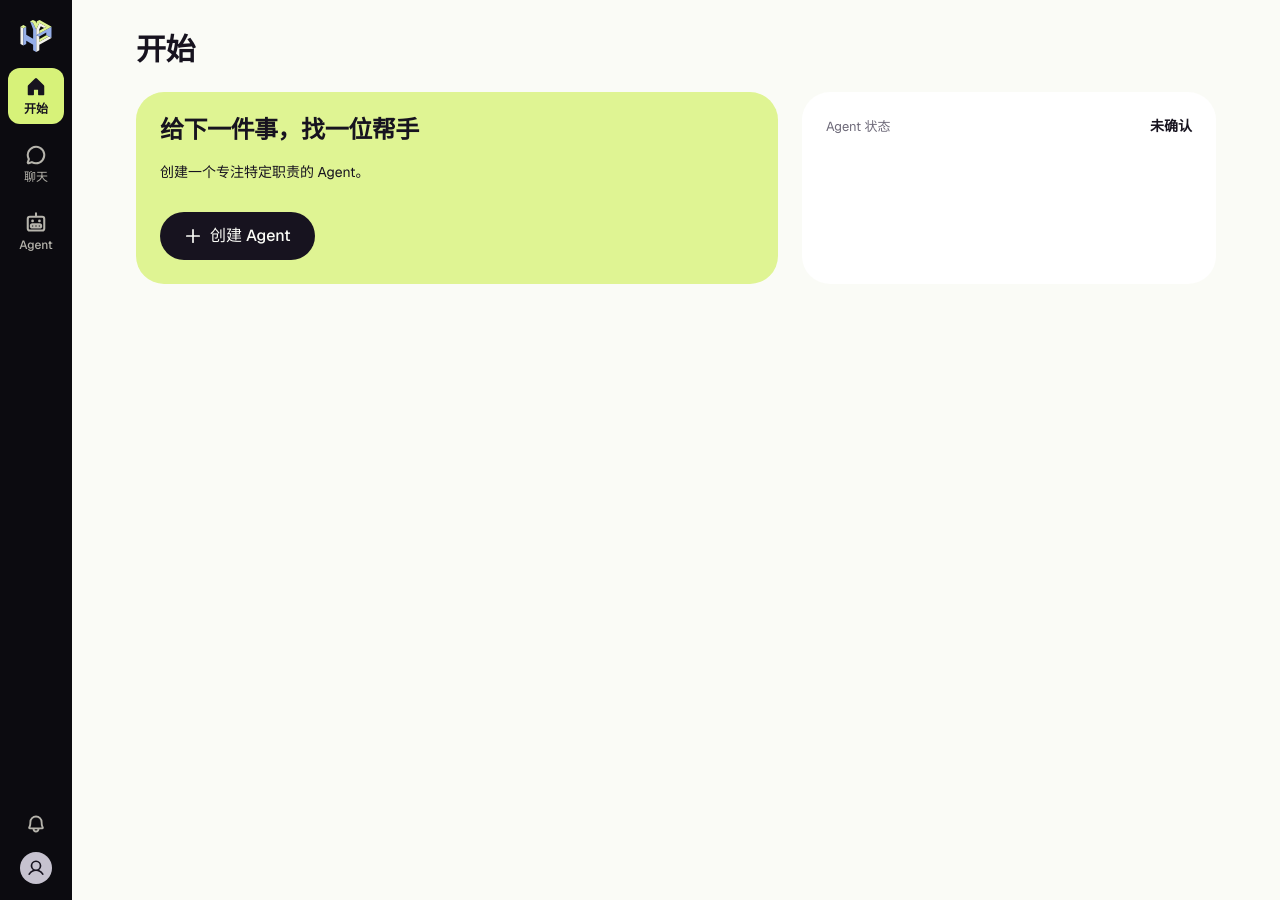
Test: agent detail four-tab shell (implG4) › prefills the Pi DeepSeek model when the directory has no model value
The image size is (1280, 900).
Click the button "Agent" at point(36, 232), box 8,204 -> 64,260
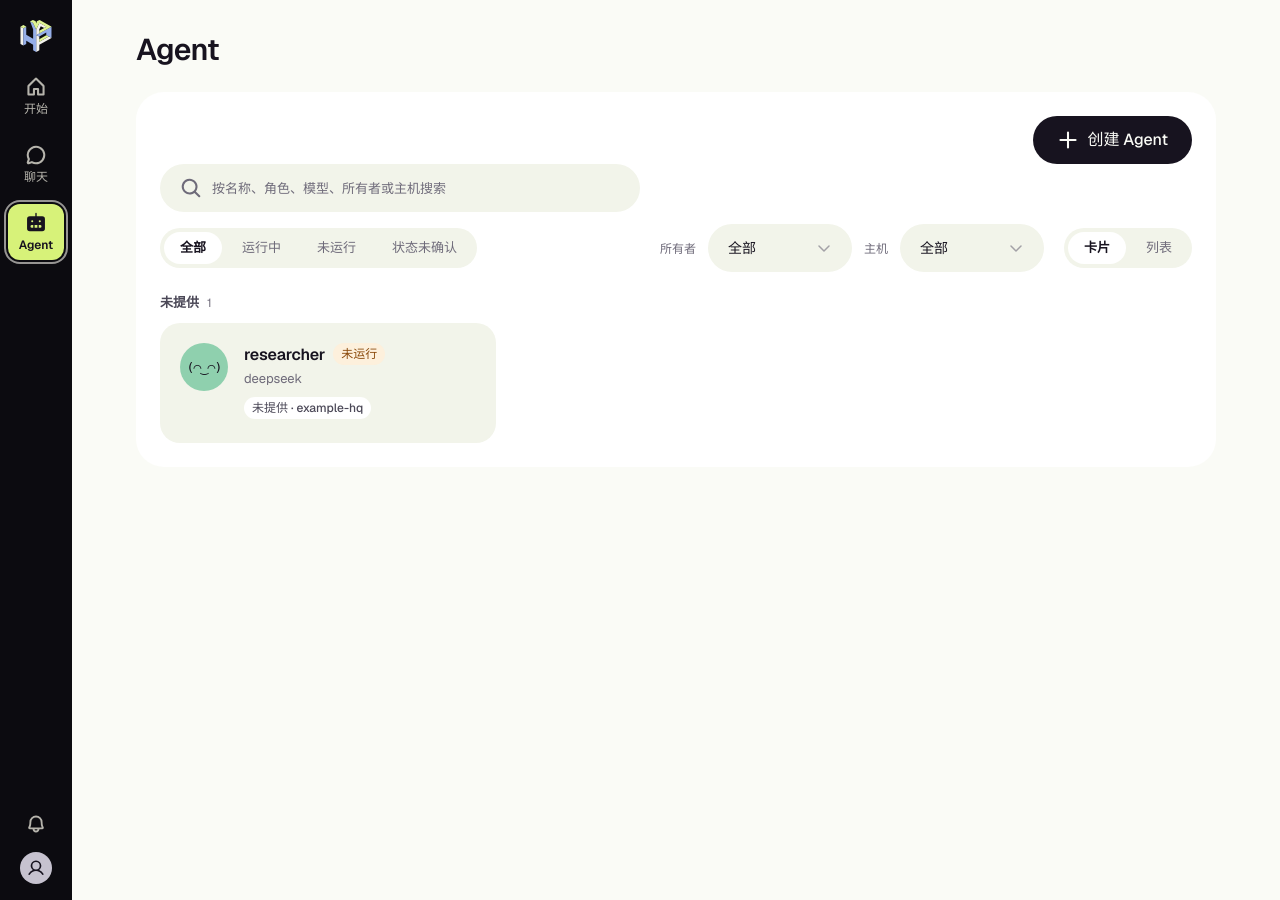
Click the button with test id "contact-researcher" at point(204, 367), box 160,323 -> 496,443
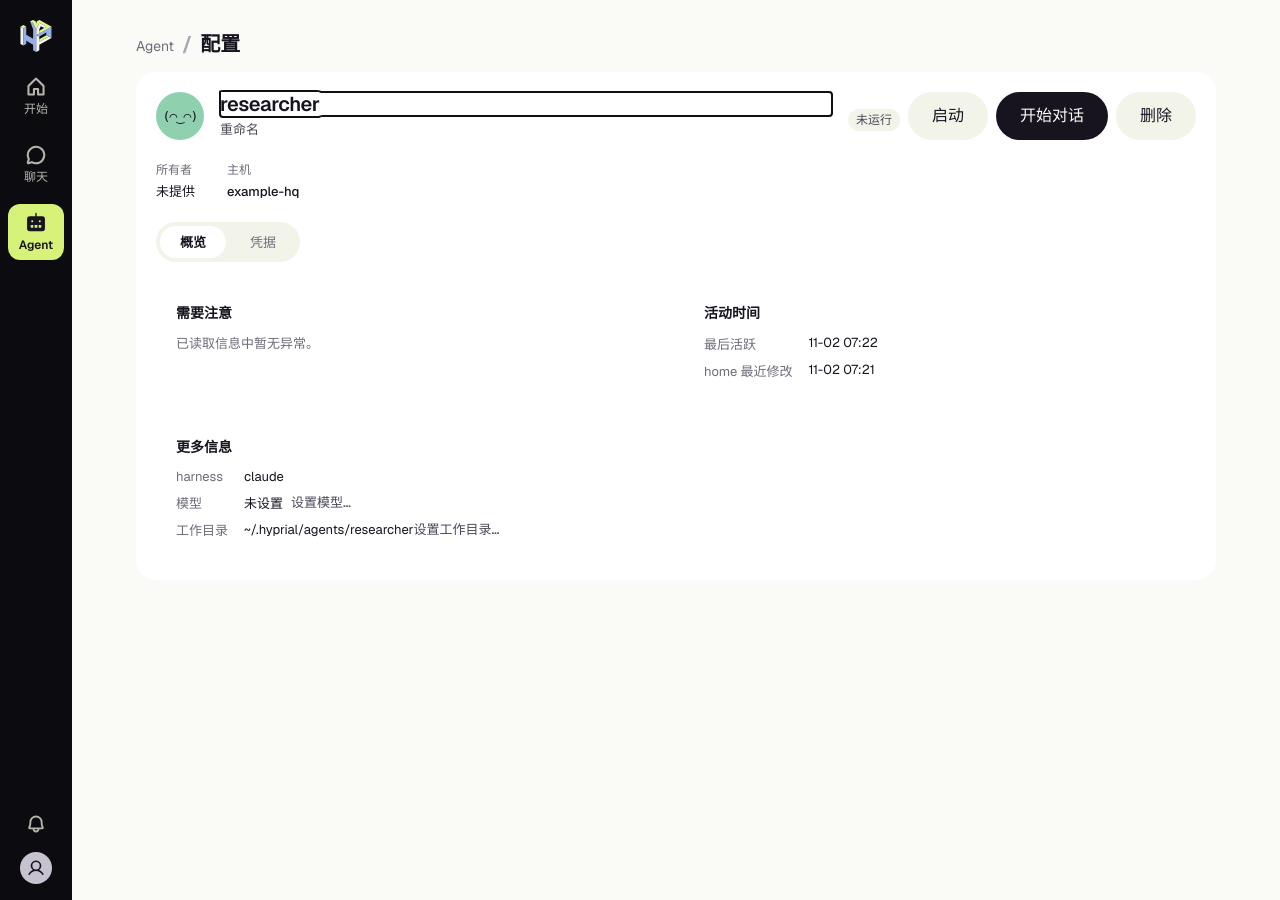
Click the button "设置模型…" at point(321, 502), box 291,492 -> 351,512
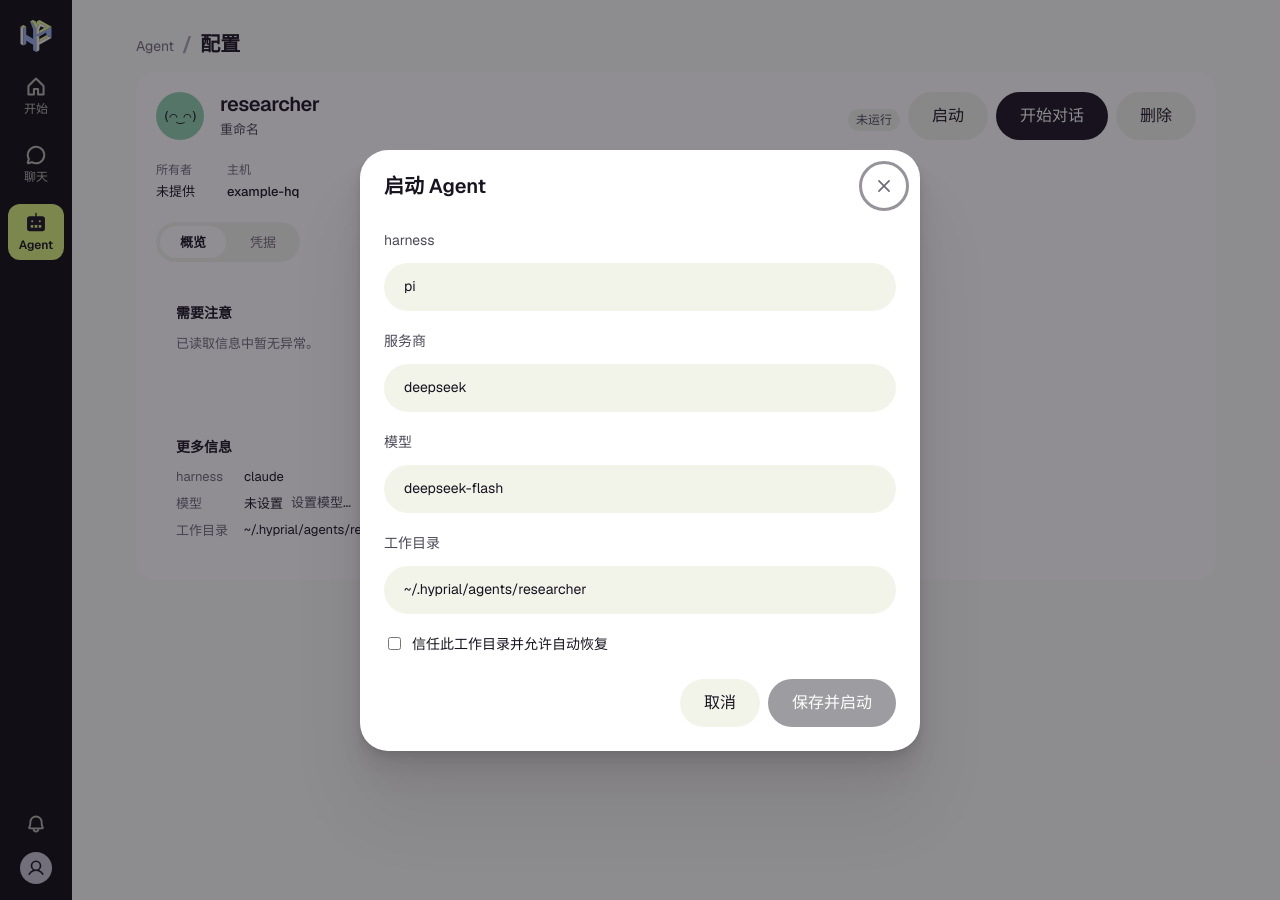
expect the field labelled "模型" holds "deepseek-flash": met, box 384,464 -> 896,512
